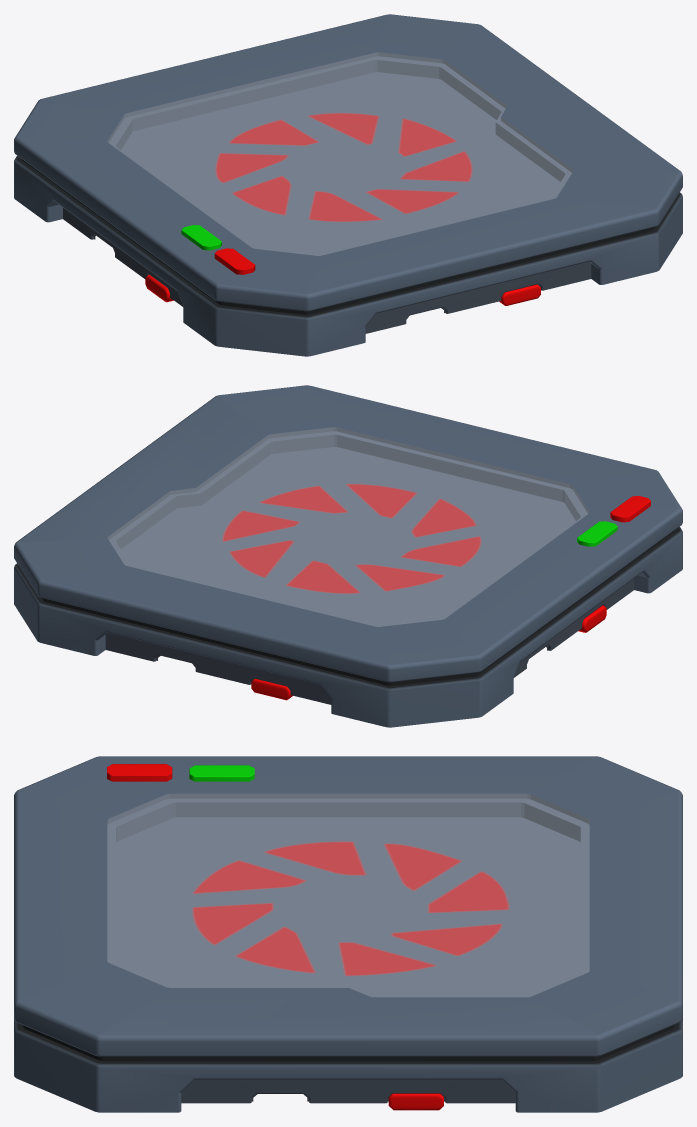
File: glass_energy_half.fbx
3 views of the same model, one above another, from view 1: azimuth 30°, elevation 25°; view 2: azimuth 150°, elevation 25°; view 3: azimuth 270°, elevation 25° (orthographic). The views are drawn at different scales.
Visible parts, largest first — view 1: glass_energy_half; view 2: glass_energy_half; view 3: glass_energy_half.
Boxes of the visible parts, <box> form: glass_energy_half: <box>14,14,682,356</box>; glass_energy_half: <box>14,385,682,727</box>; glass_energy_half: <box>14,756,682,1112</box>.
Bounding box in the file's own units: 8 × 1.2 × 8.
